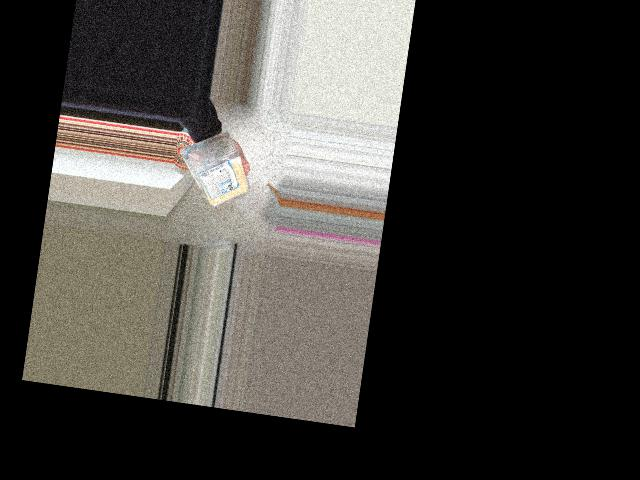cheese: (179, 135, 246, 213)
